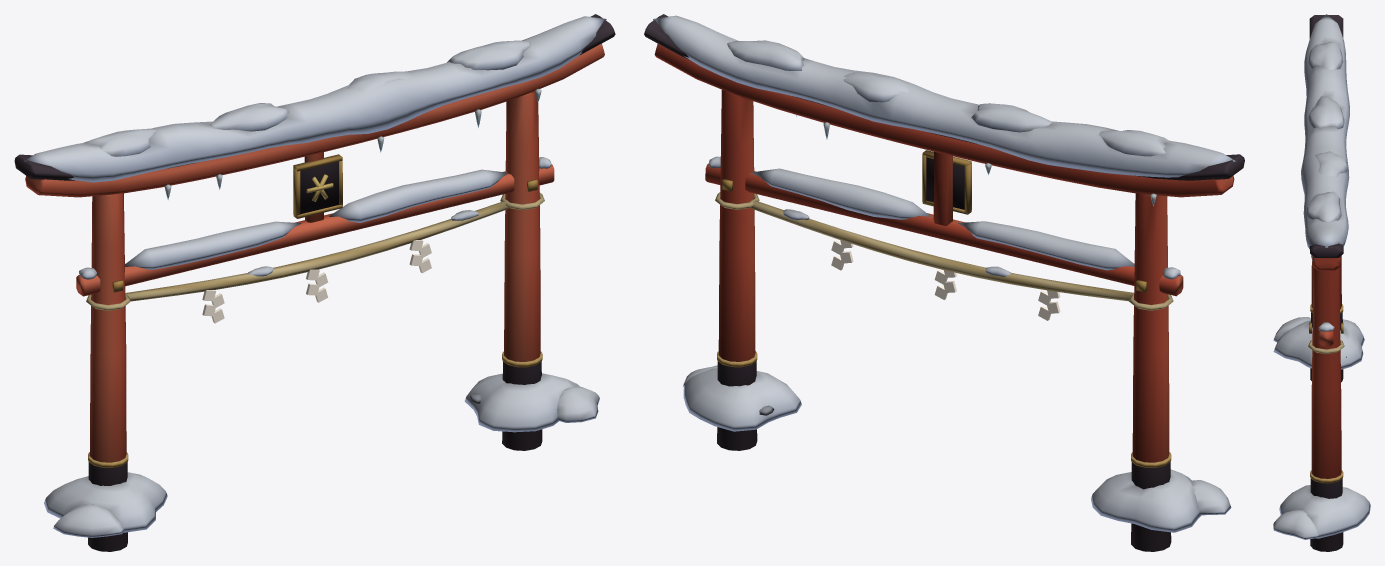
File: rg-onsen-snowTorii-v0.glb
The picture shows the model from 3 angles, left to right: view 1: azimuth 30°, elevation 25°; view 2: azimuth 150°, elevation 25°; view 3: azimuth 270°, elevation 25°; orthographic projection. The views are drawn at different scales.
Parts seen in each view (by area): view 1: body, cloth; view 2: body, cloth; view 3: body.
Boxes of the visible parts, x1,y1,x2,y2 form: body: [14, 14, 615, 551]; cloth: [202, 239, 431, 323]; body: [644, 14, 1244, 551]; cloth: [831, 240, 1060, 320]; body: [1273, 14, 1370, 551].
Size of the model in its own units: 5.94 by 3.96 by 1.05.
